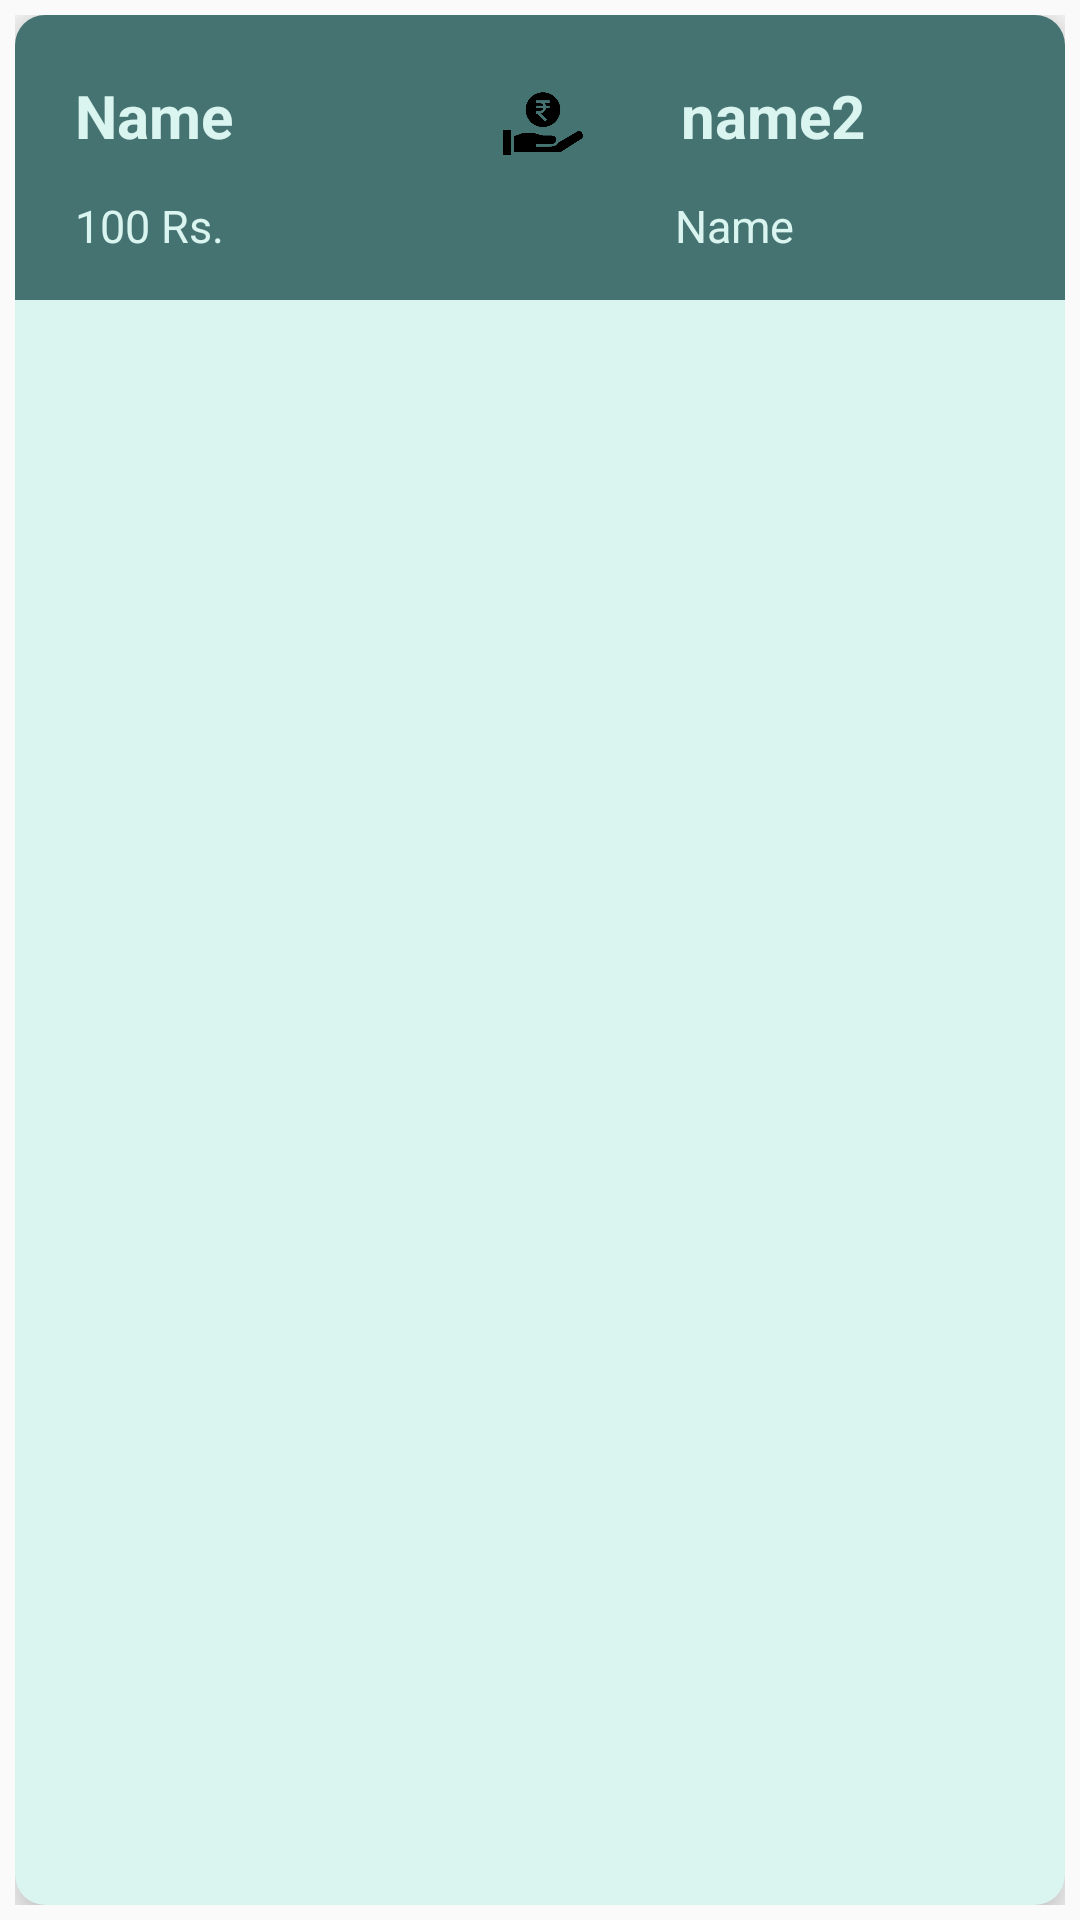

Screen size 1080w x 1920h. Icon name, then its center in pixels as (x,y):
currency: (543,123)
